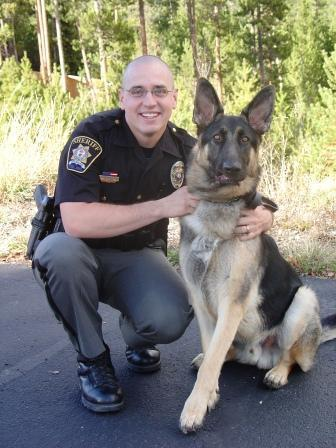German_shepherd: (178, 71, 334, 433)
